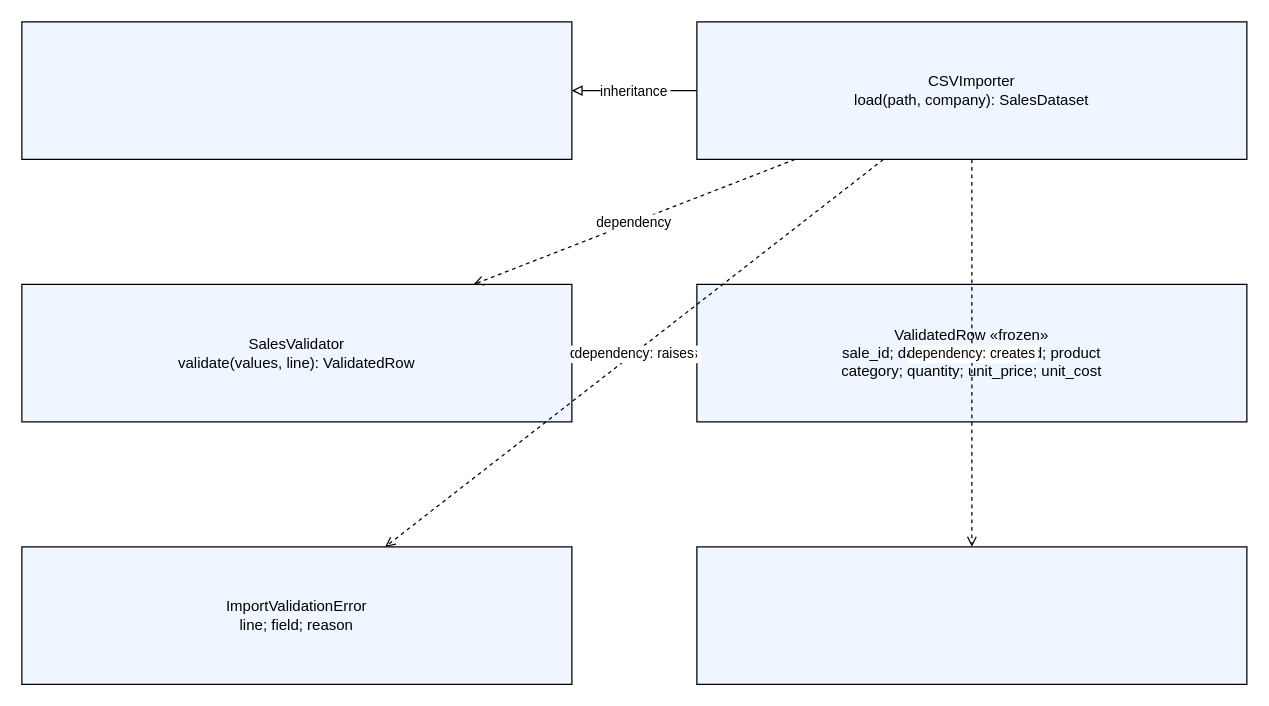
Some shapes in this 1269 by 706 pixel diagram are drawn without their labels. The shapes that lost their labels are listed below. From the top down, each one's box as (x1, y1, x2, y2) in pixels, then its label:
(21, 21, 572, 159): DataImporter «abstract» load(path, company): SalesDataset
(696, 546, 1247, 684): SalesDataset Imported domain result
